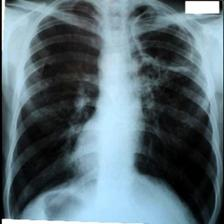tuberculosis: (8, 0, 218, 224)
